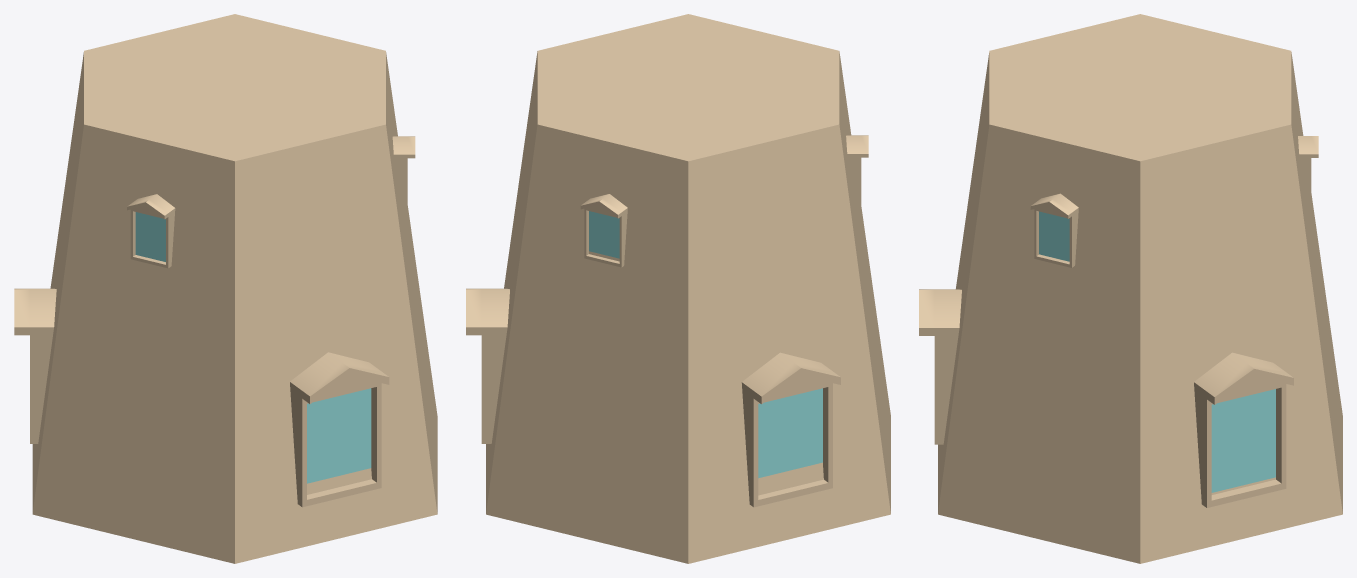
Rendered from windmilltower_mid.fbx.
The picture shows the model from 3 angles, left to right: view 1: azimuth 30°, elevation 25°; view 2: azimuth 150°, elevation 25°; view 3: azimuth 270°, elevation 25°; orthographic projection.
Parts seen in each view (by area): view 1: polySurface99; view 2: polySurface99; view 3: polySurface99.
Part boxes in pixels (x1,y1,x2,y2): polySurface99: (14, 14, 437, 563); polySurface99: (466, 14, 890, 563); polySurface99: (919, 14, 1342, 563).
Size of the model in its own units: 4.88 by 4.34 by 4.42.
